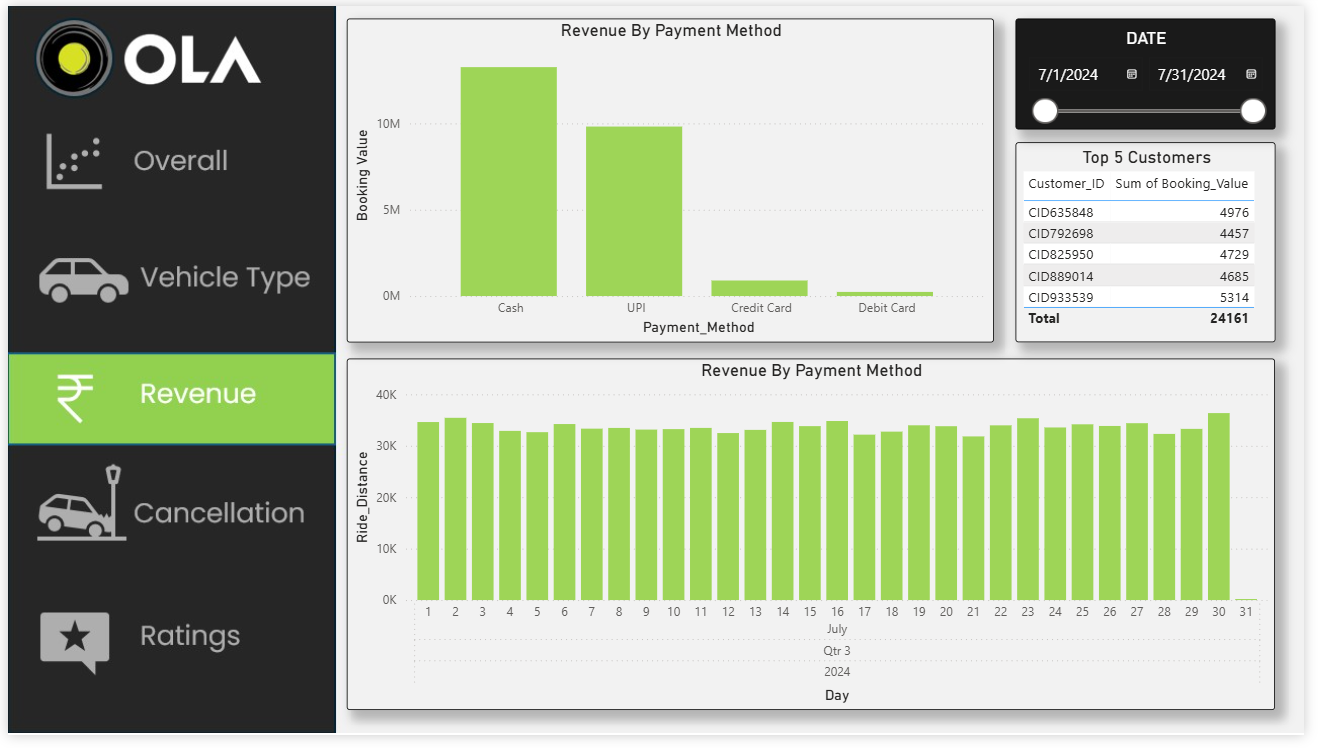

What the dashboard file says about the page in this screenshot:
{"tool":"powerbi","page":{"name":"Revenue","canvas":[1280,720],"ordinal":2},"visuals":[{"type":"actionButton","box":[0,447.1,324.8,91.7],"z":0},{"type":"actionButton","box":[0,109.7,324.8,91.7],"z":1000},{"type":"actionButton","box":[0,573.6,324.8,91.7],"z":2000},{"type":"actionButton","box":[0,221.4,324.8,91.7],"z":3000},{"type":"columnChart","title":"Revenue By Payment Method","fields":{"Y":["Sum(July.Booking_Value)"],"Category":["July.Payment_Method"]},"box":[334.8,12.3,639.5,319.7],"z":4000},{"type":"columnChart","title":"Revenue By Payment Method","fields":{"Y":["Sum(July.Ride_Distance)"],"Category":["July.Date.Variation.Date Hierarchy.Year","July.Date.Variation.Date Hierarchy.Quarter","July.Date.Variation.Date Hierarchy.Month","July.Date.Variation.Date Hierarchy.Day"]},"box":[334.8,348.5,916.6,347.2],"z":5000},{"type":"slicer","title":"DATE","fields":{"Values":["July.Date"]},"box":[994.9,12.3,256.6,109.8],"z":6000},{"type":"tableEx","title":"Top 5 Customers","fields":{"Values":["July.Customer_ID","Sum(July.Booking_Value)"]},"box":[994.9,134.5,256.6,197.6],"z":7000}]}

Visuals, with their boxes in screenshot pixels (x1, y1, x2, y2), scaled from the page's 1280x720 canvas onto the 1318x748 screenshot:
actionButton: rect(0, 464, 334, 560)
actionButton: rect(0, 114, 334, 209)
actionButton: rect(0, 596, 334, 691)
actionButton: rect(0, 230, 334, 325)
"Revenue By Payment Method" columnChart: rect(345, 13, 1003, 345)
"Revenue By Payment Method" columnChart: rect(345, 362, 1289, 723)
"DATE" slicer: rect(1024, 13, 1289, 127)
"Top 5 Customers" tableEx: rect(1024, 140, 1289, 345)
